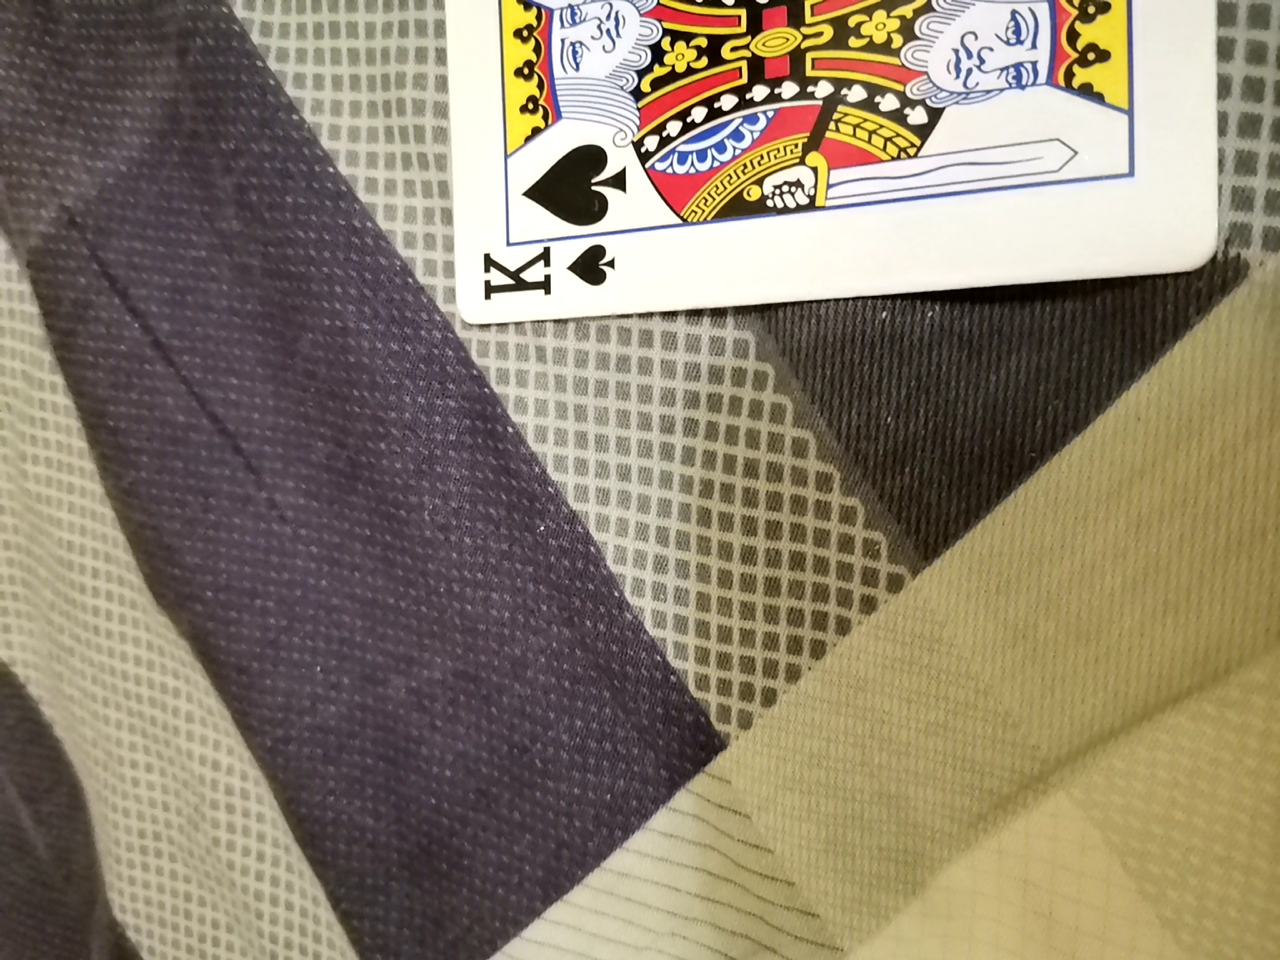ht k: (422, 0, 1221, 338)
